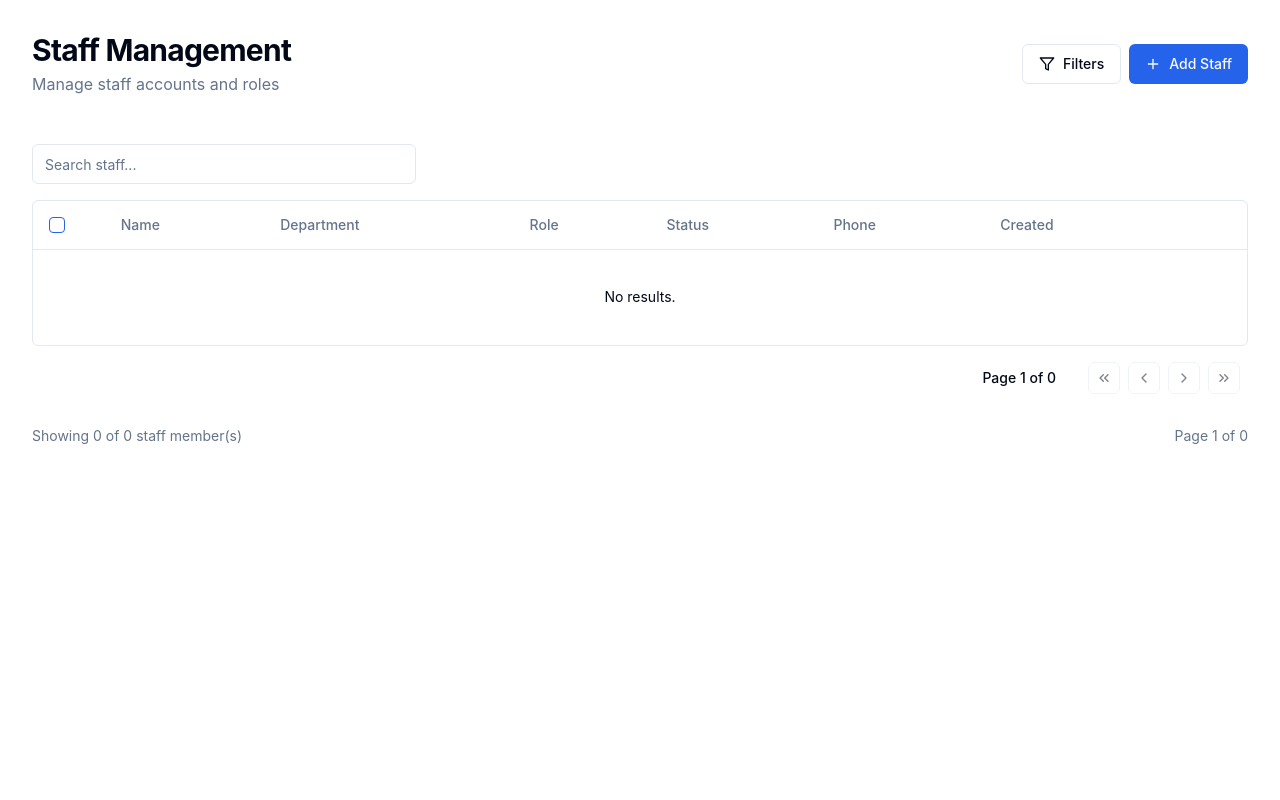
it: StaffManagementPage › CRUD Operations › should open create dialog when Add Staff button is clicked
Click the button "Add Staff": (1189, 64) [1129,44,1248,84]
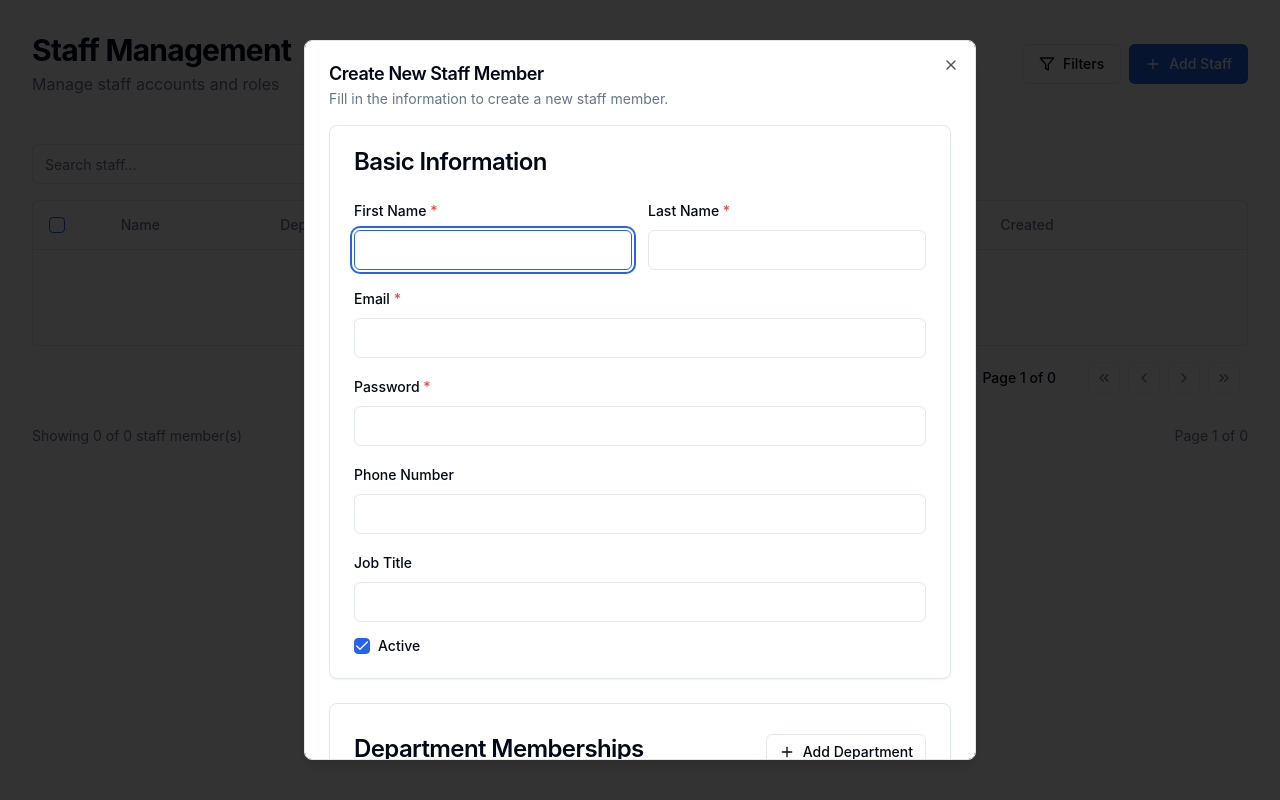
Expected: the heading "Create New Staff Member" is shown, [329,63,544,84]
